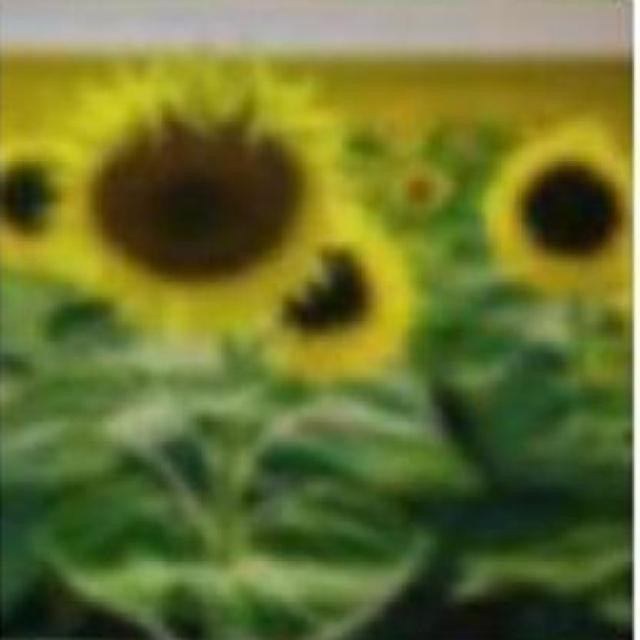sunflower: (53, 60, 345, 349), (479, 124, 636, 291)
